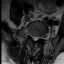CCS_stenosis: (34, 32, 36, 43)
LFS_stenosis: (39, 32, 41, 40)
LLS_normal: (36, 33, 39, 41)
RFS_stenosis: (29, 29, 31, 39)
RLS_normal: (31, 32, 34, 41)
